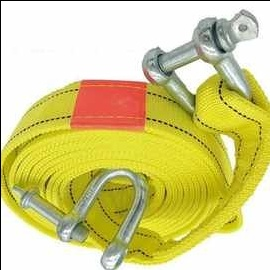9/可回收垃圾/绳子: (1, 69, 270, 266)
